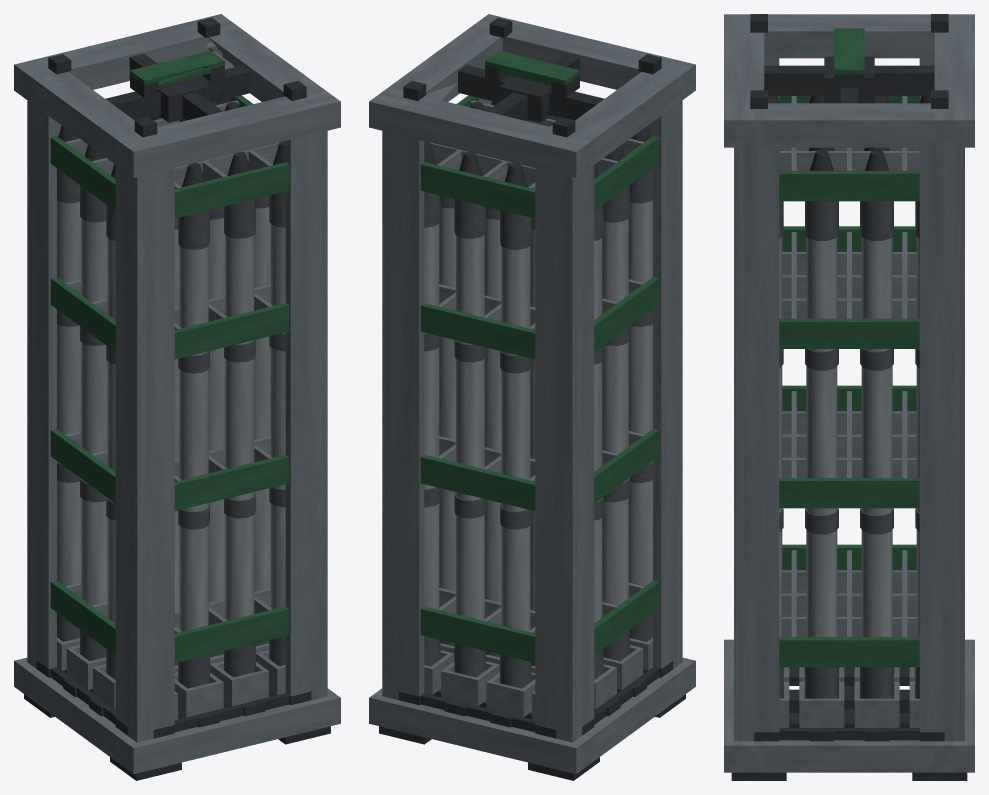
File: tvs_combined.obj
3 renders of one model, left to right at view 1: azimuth 30°, elevation 25°; view 2: azimuth 150°, elevation 25°; view 3: azimuth 270°, elevation 25°, orthographic. The views are drawn at different scales.
Bounding box in the file's own units: 1 × 3 × 1.
